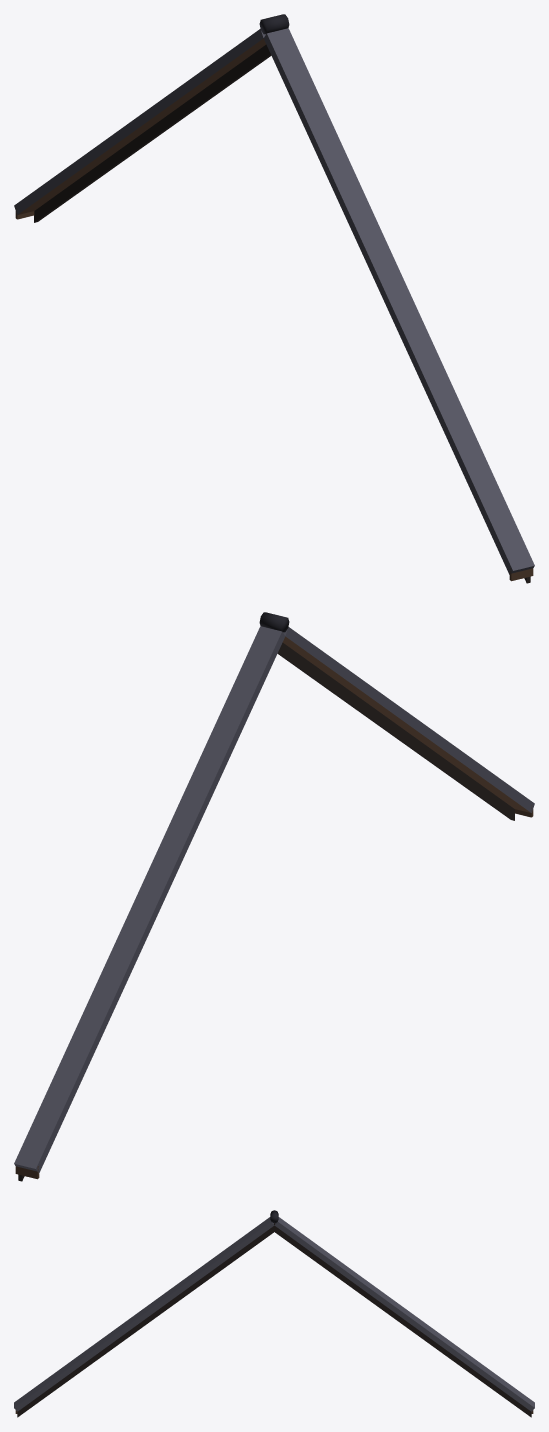
The model's file is kit_stone_slate_w8_end.glb.
3 renders of one model, top to bottom at view 1: azimuth 30°, elevation 25°; view 2: azimuth 150°, elevation 25°; view 3: azimuth 270°, elevation 25°, orthographic. The views are drawn at different scales.
Parts seen in each view (by area): view 1: kit_stone_slate_w8_end; view 2: kit_stone_slate_w8_end; view 3: kit_stone_slate_w8_end.
Part boxes in pixels (bbox=[...]): kit_stone_slate_w8_end: bbox=[14, 14, 534, 583]; kit_stone_slate_w8_end: bbox=[14, 612, 534, 1181]; kit_stone_slate_w8_end: bbox=[14, 1210, 534, 1417].
Size of the model in its own units: 0.22 by 3.73 by 8.71.
